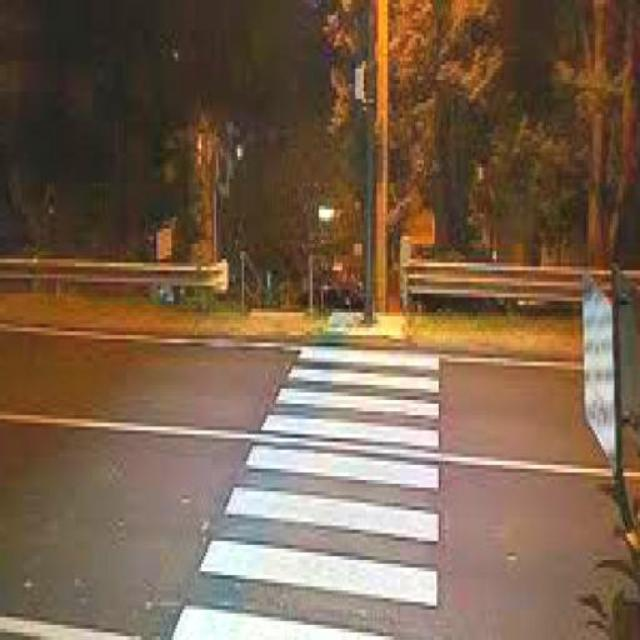sidewalk: (166, 344, 436, 640)
